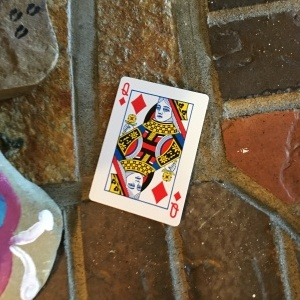card: (89, 74, 211, 226)
